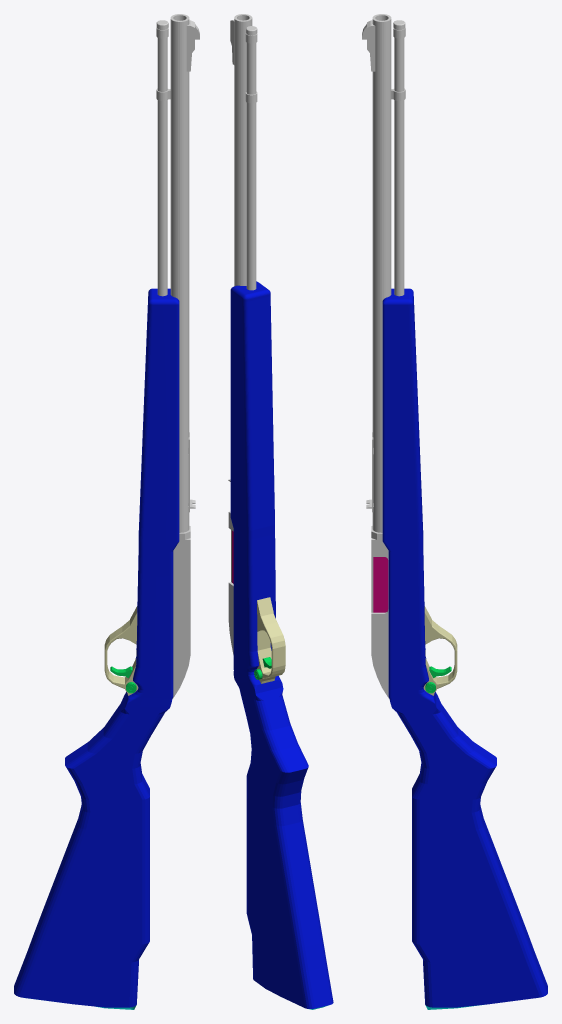
Rendered from Marlin_Model_60.fbx.
3 views of the same model, side by side, from view 1: azimuth 90°, elevation 25°; view 2: azimuth 210°, elevation 25°; view 3: azimuth 270°, elevation 25° (orthographic). The views are drawn at different scales.
Visible parts, largest first — view 1: reciever.001; view 2: reciever.001; view 3: reciever.001.
Part boxes in pixels (box(x1,y1,x2,y2)): reciever.001: box(14, 14, 199, 1009); reciever.001: box(228, 14, 333, 1009); reciever.001: box(362, 14, 547, 1009).
Size of the model in its own units: 1.84 by 60.65 by 10.32.
